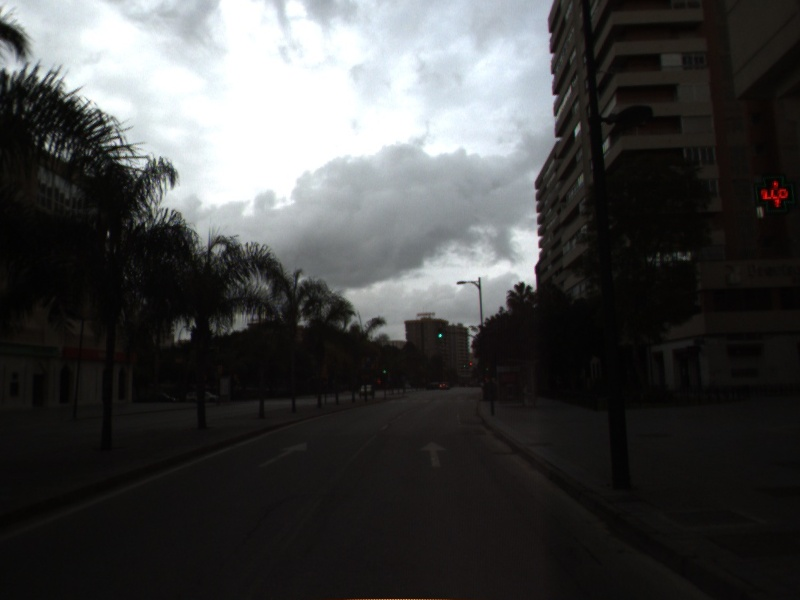STRAIGHT: (255, 440, 309, 470), (417, 439, 449, 470)
